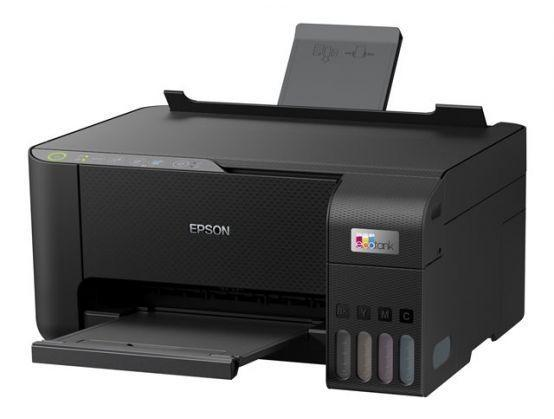Printer: (27, 21, 526, 396)
